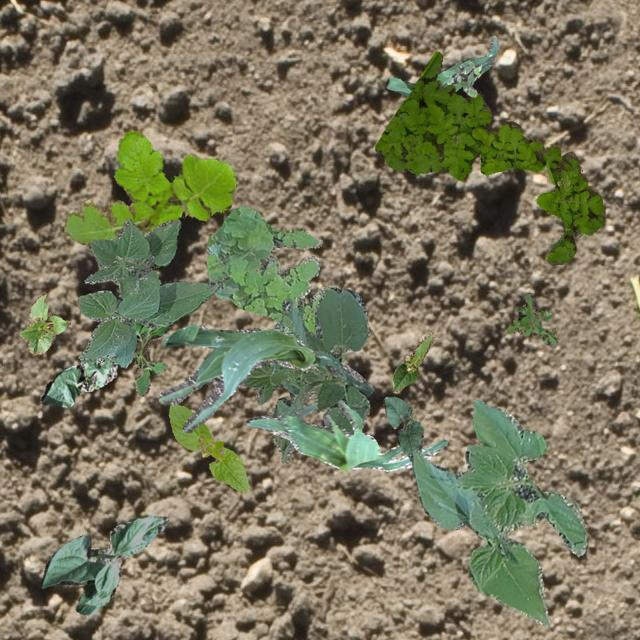crop: (408, 398, 586, 626), (158, 322, 372, 432), (242, 286, 368, 464), (77, 218, 216, 366), (244, 398, 446, 471), (39, 514, 168, 614), (168, 403, 248, 492), (386, 34, 496, 96), (40, 356, 116, 406), (19, 294, 70, 354), (392, 331, 434, 392), (382, 396, 422, 456)
weed: (373, 50, 604, 264), (64, 130, 234, 243), (205, 204, 338, 334), (130, 318, 172, 396), (506, 292, 556, 346), (268, 314, 304, 384), (446, 60, 480, 96)
